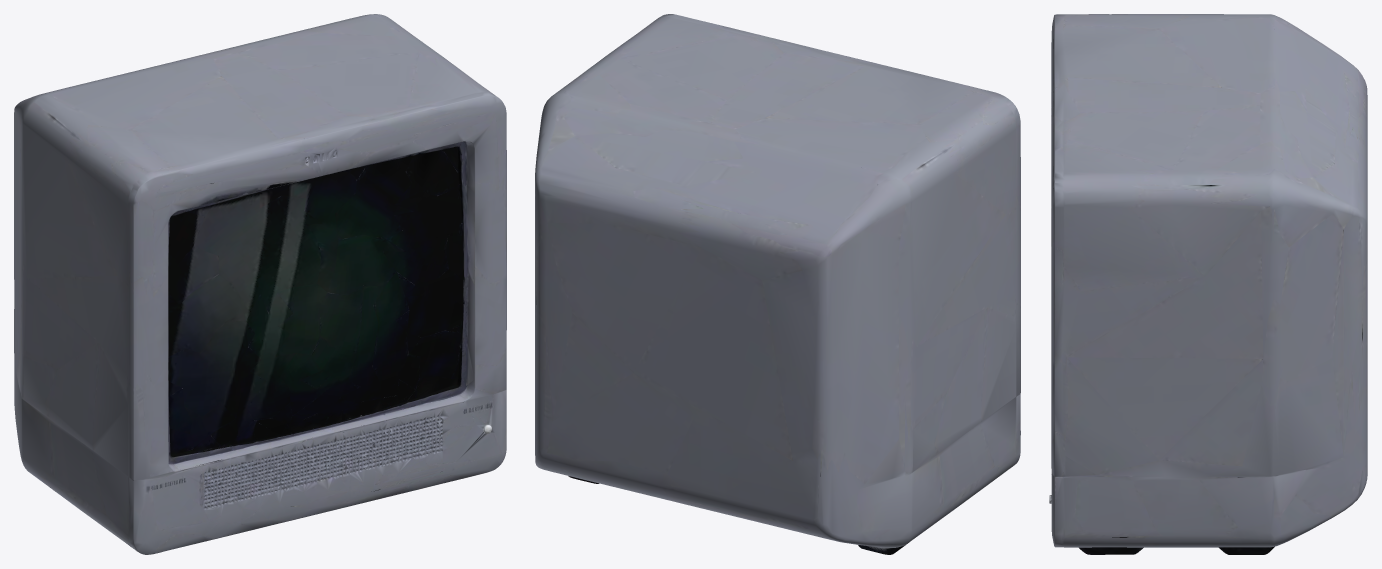
Rendered from a3D-monitor-sonia.glb.
3 renders of one model, left to right at view 1: azimuth 30°, elevation 25°; view 2: azimuth 150°, elevation 25°; view 3: azimuth 270°, elevation 25°, orthographic. The views are drawn at different scales.
Visible parts, largest first — view 1: geometry_0; view 2: geometry_0; view 3: geometry_0.
Part boxes in pixels (box(x1,y1,x2,y2)): geometry_0: box(14, 14, 506, 554); geometry_0: box(535, 14, 1020, 554); geometry_0: box(1049, 14, 1367, 554).
Size of the model in its own units: 1.9 by 1.9 by 1.43.
Materials: 1 (1 with a texture image).
